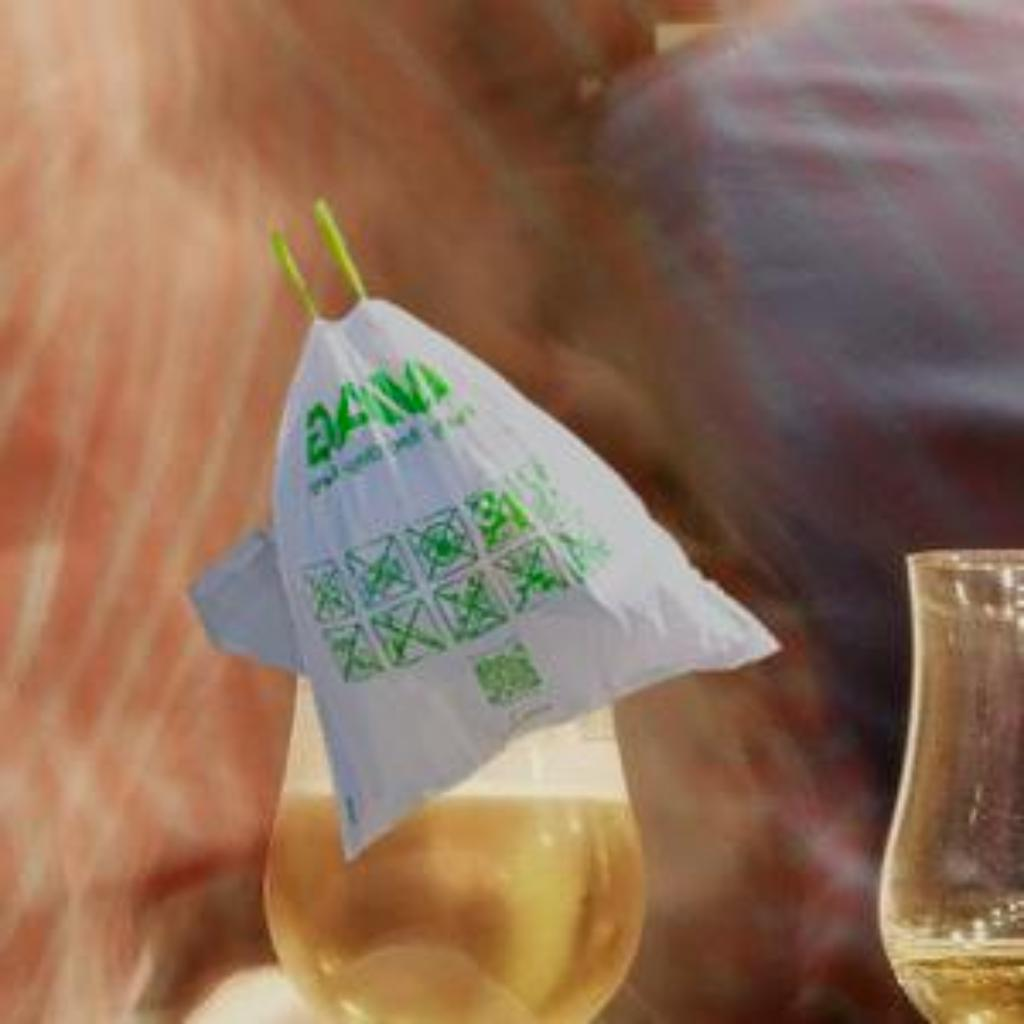garbage: (155, 189, 780, 865)
